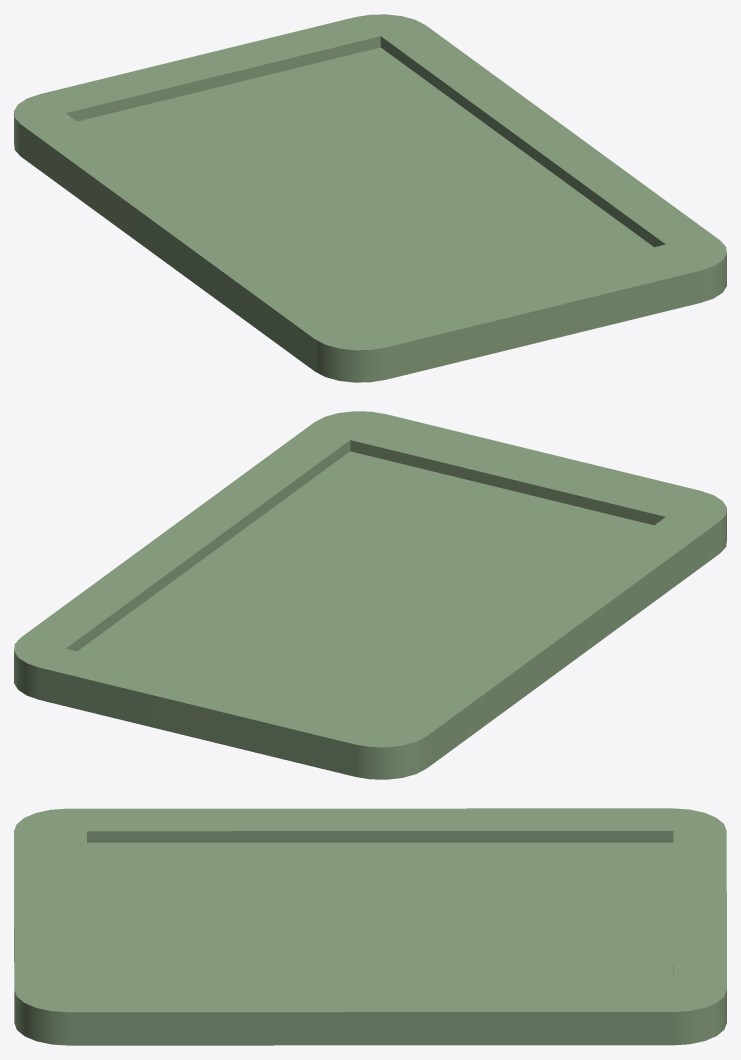
File: Tablet.fbx
3 renders of one model, top to bottom at view 1: azimuth 30°, elevation 25°; view 2: azimuth 150°, elevation 25°; view 3: azimuth 270°, elevation 25°, orthographic. The views are drawn at different scales.
Visible parts, largest first — view 1: Tablet; view 2: Tablet; view 3: Tablet.
Part boxes in pixels (box(x1,y1,x2,y2)): Tablet: box(14, 14, 726, 382); Tablet: box(14, 411, 726, 779); Tablet: box(14, 808, 726, 1045).
Bounding box in the file's own units: 22.15 × 1.69 × 32.74.
